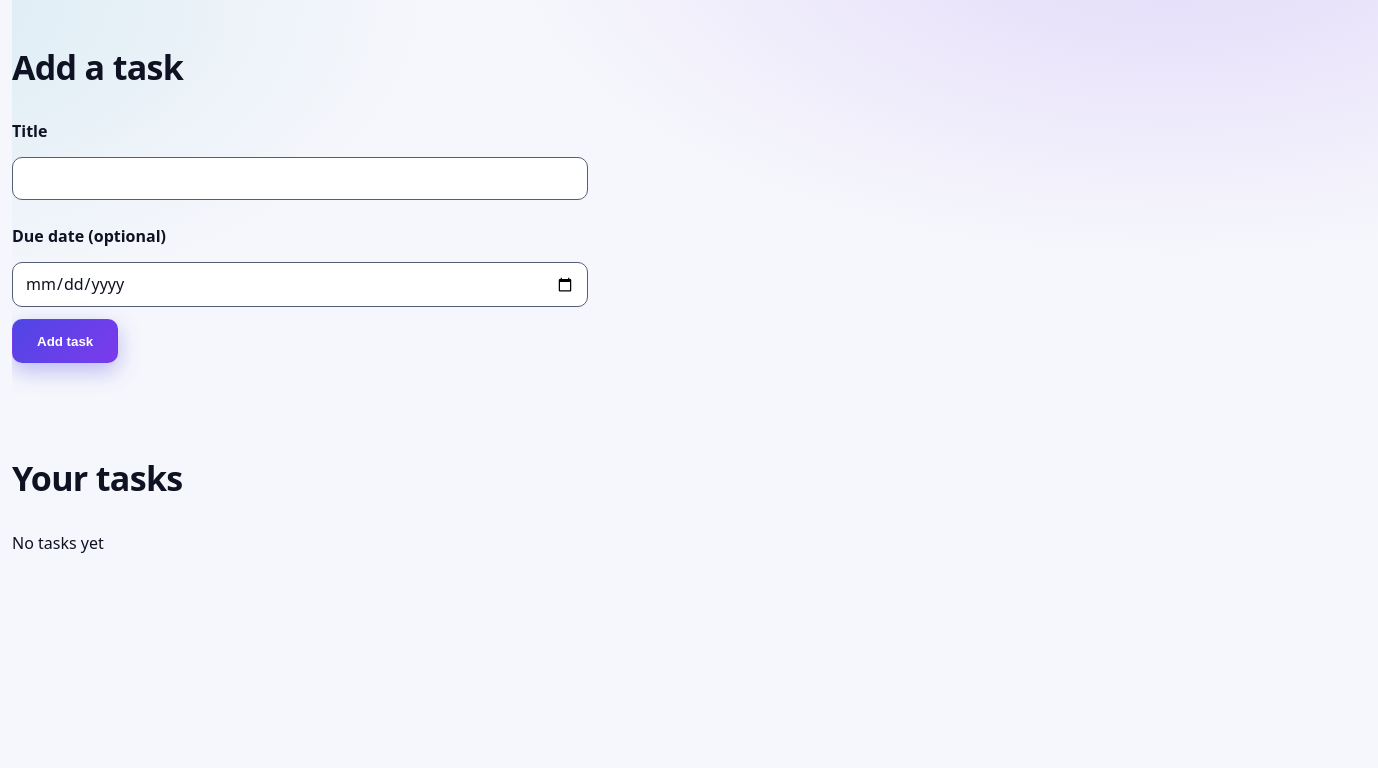
it: TaskBoard › AC-001.2 sends due_date null when no date is picked and replaces No tasks yet
Type "Buy milk" into the field labelled "Title" at (300,178), box [12,157,588,200]
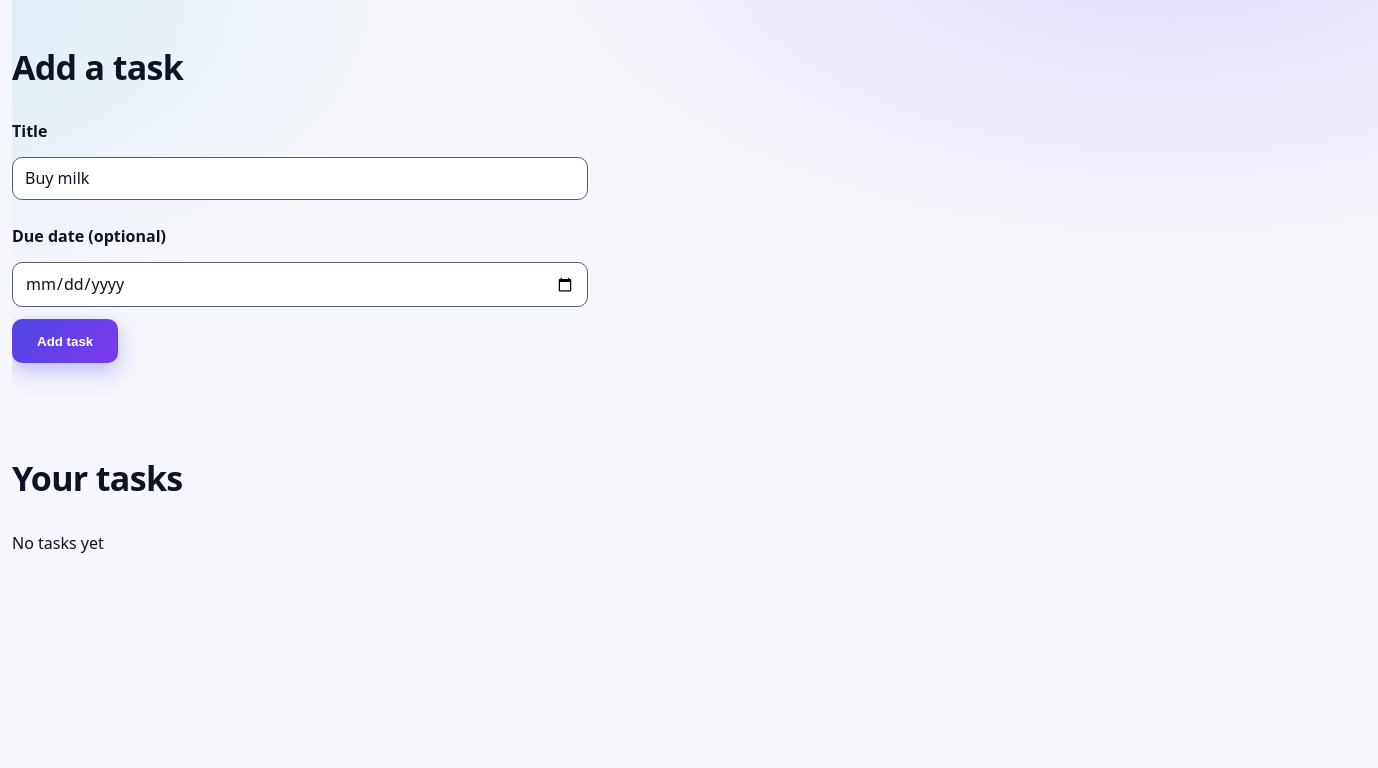
Click the button "Add task" at (65,342), box [12,320,118,364]
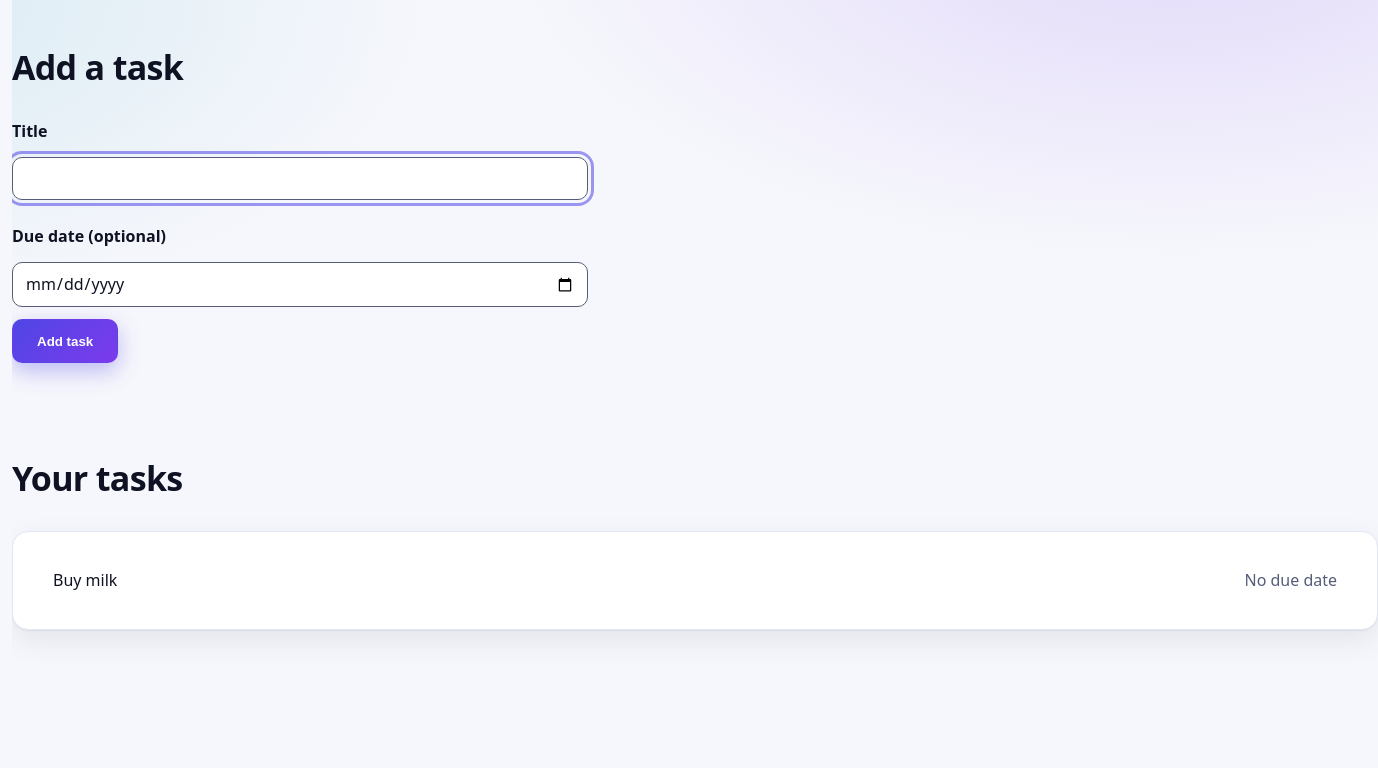
Result: the number of list items is 1 at [53,569,1337,591]
Result: the text "No tasks yet" is gone
Result: the text "No due date" is shown at [1244,568,1337,593]
